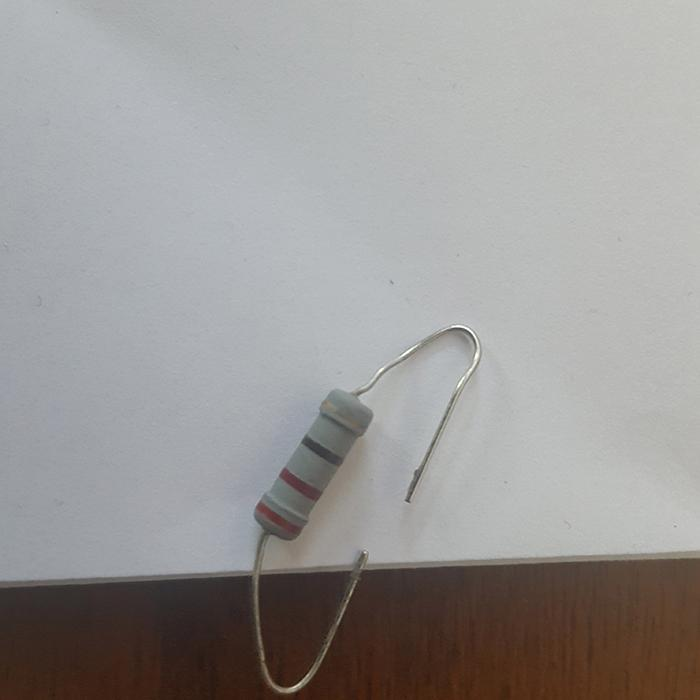resistor: (254, 387, 372, 541)
